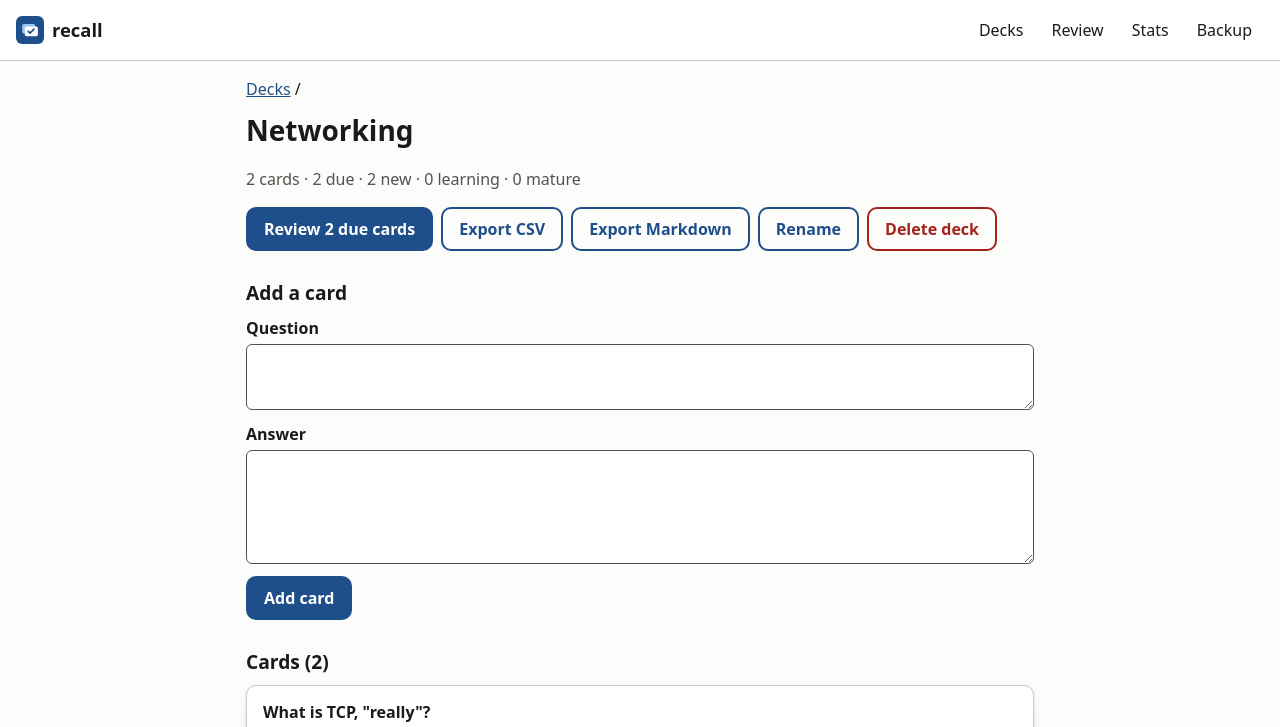
it: DeckView › renames a deck, and refuses an empty name with an inline error
expect the heading "Networking" is shown: met, box [246,111,414,149]
Click the button "Rename" at {"x": 808, "y": 229}, box [758,207,859,251]
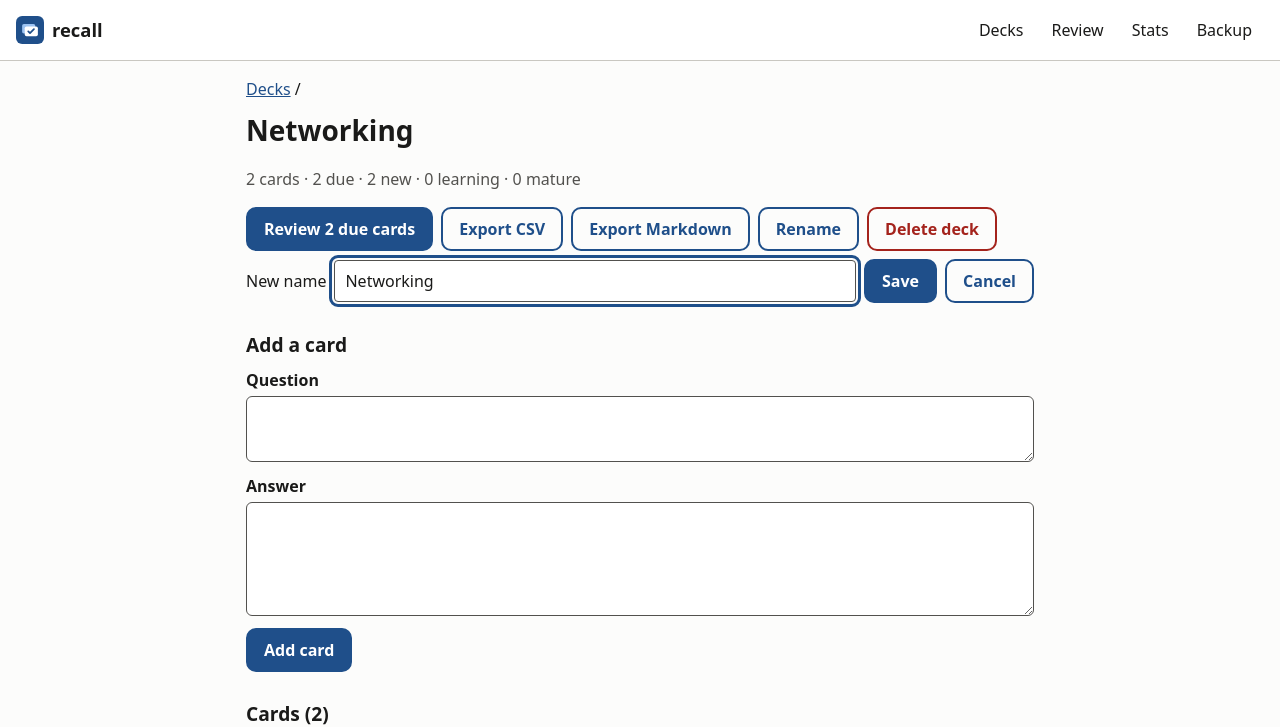
expect the field labelled "New name" holds "Networking": met
Clear the field labelled "New name" at {"x": 595, "y": 281}, box [334,260,856,302]
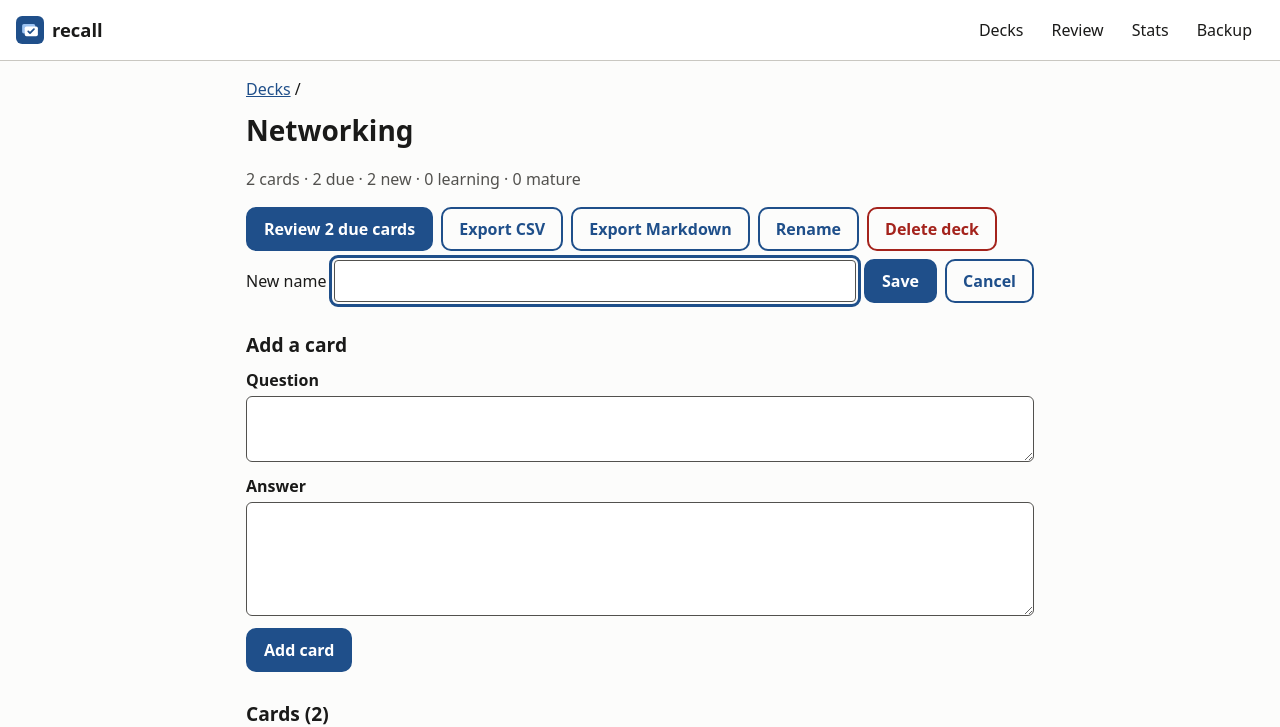
Click the button "Save" at {"x": 900, "y": 281}, box [864,259,937,303]
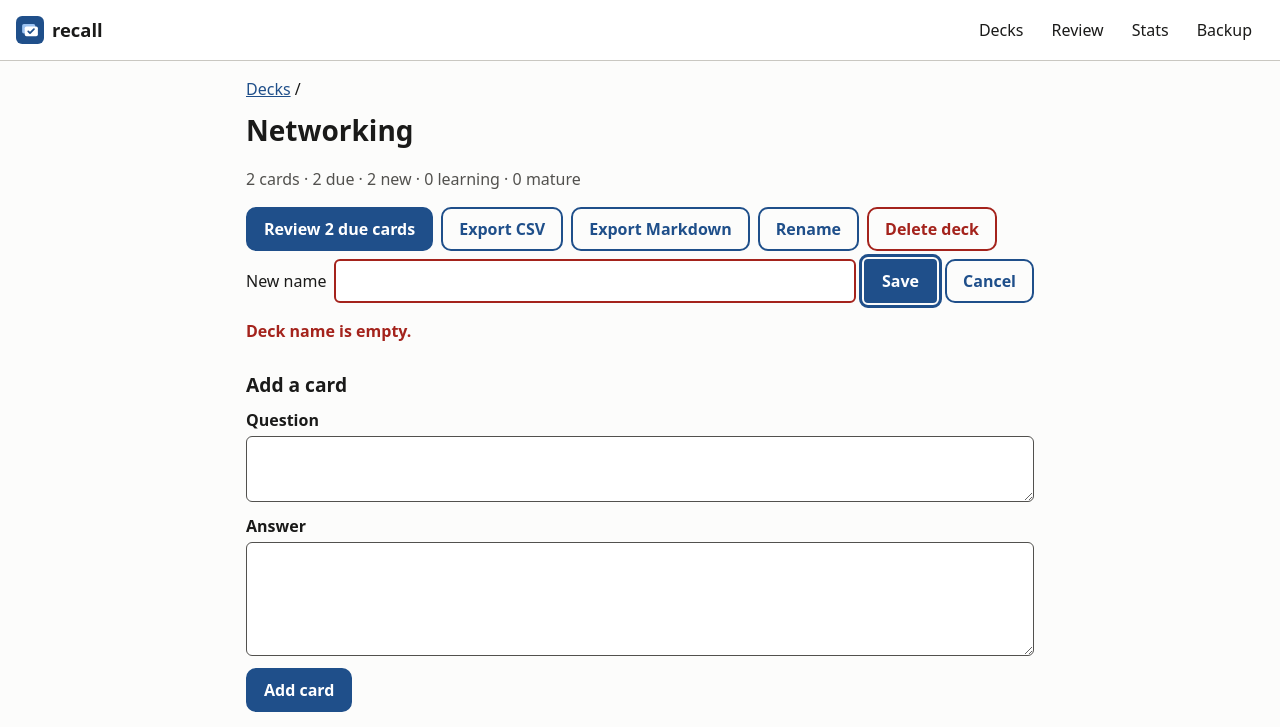
expect the message reads "Deck name is empty.": met, box [246,320,411,342]
Type "Computer networks" into the field labelled "New name" at {"x": 595, "y": 281}, box [334,259,856,303]
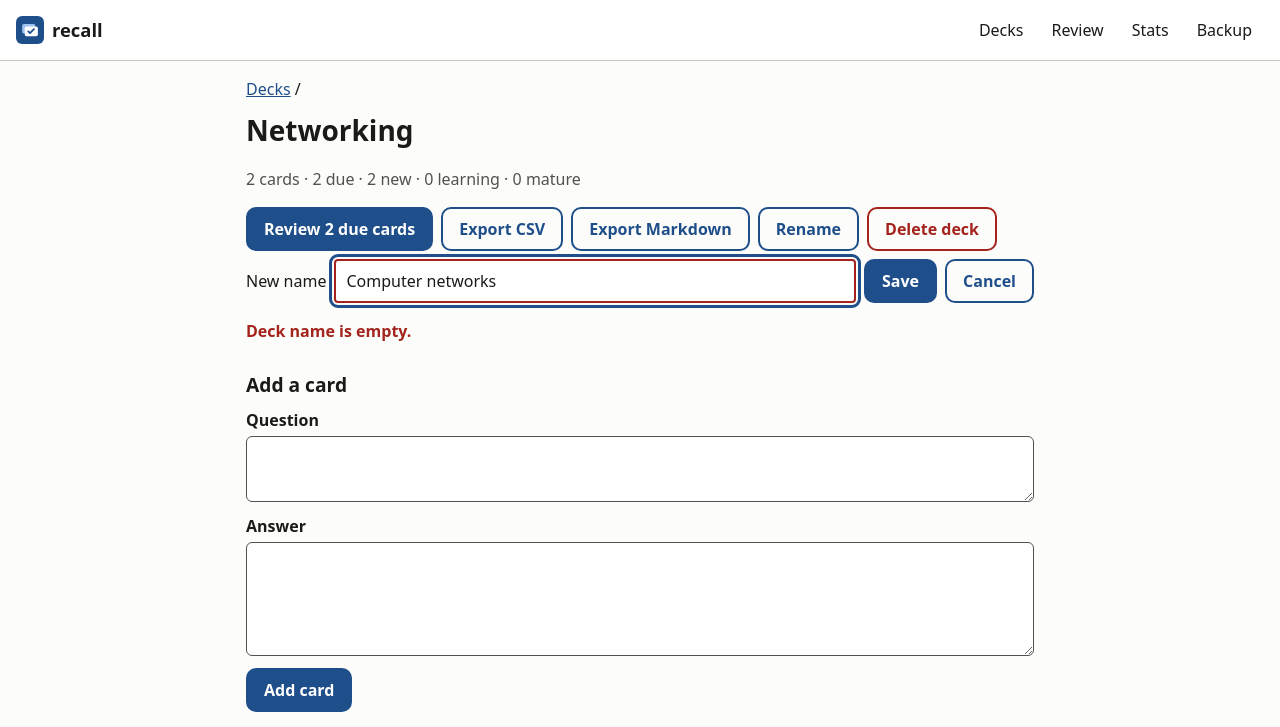
Click the button "Save" at {"x": 900, "y": 281}, box [864,259,937,303]
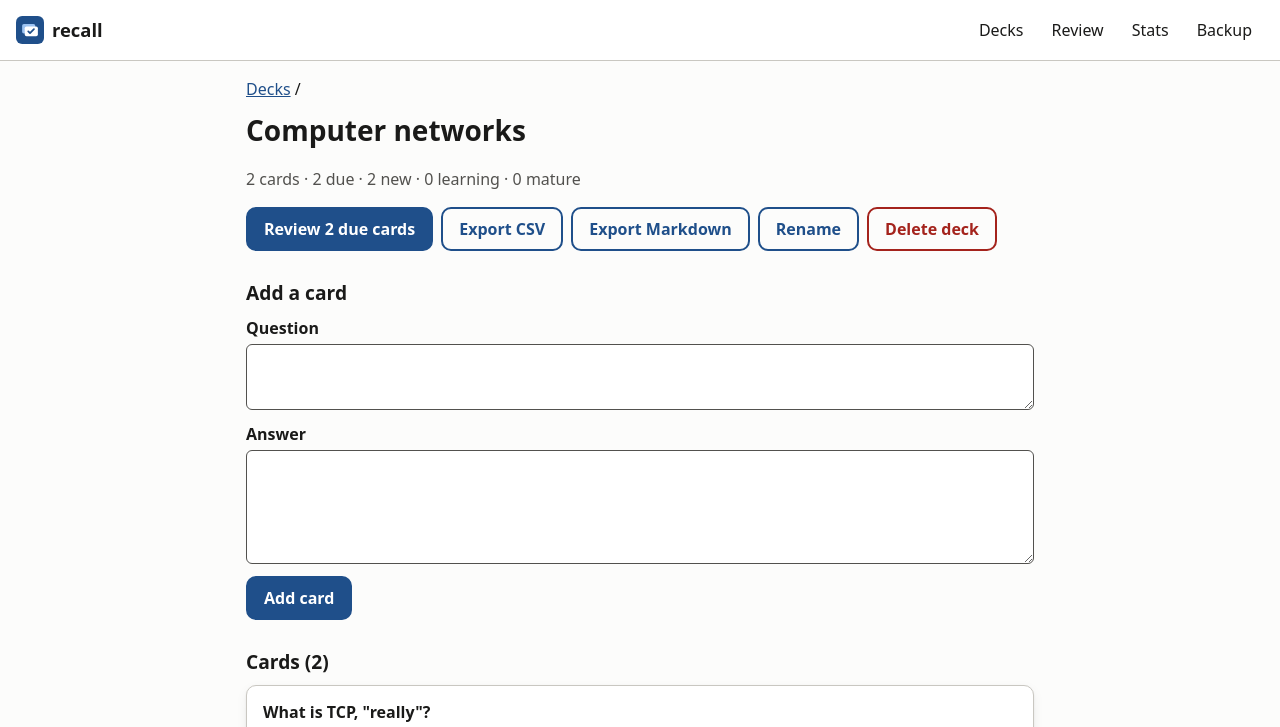
expect the heading "Computer networks" is shown: met, box [246,111,526,149]
expect the label labelled "New name" is gone: met
